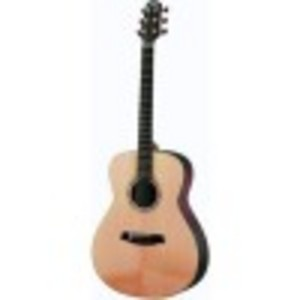guitar: (92, 1, 211, 298)
